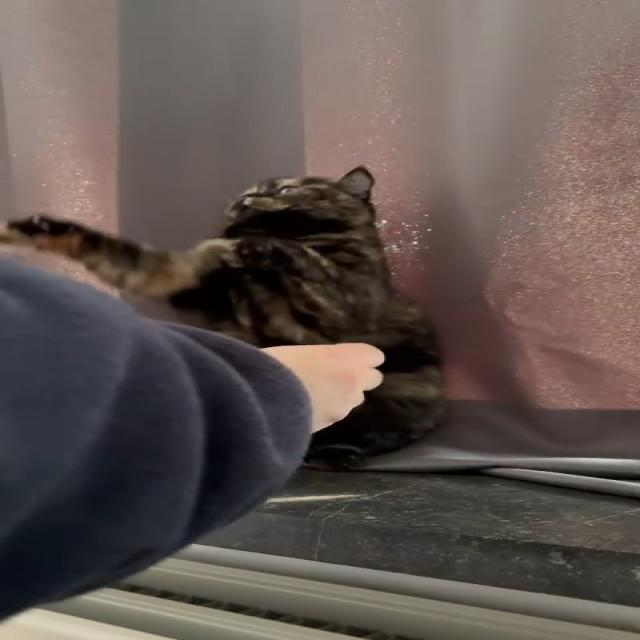authorized: (0, 164, 448, 471)
